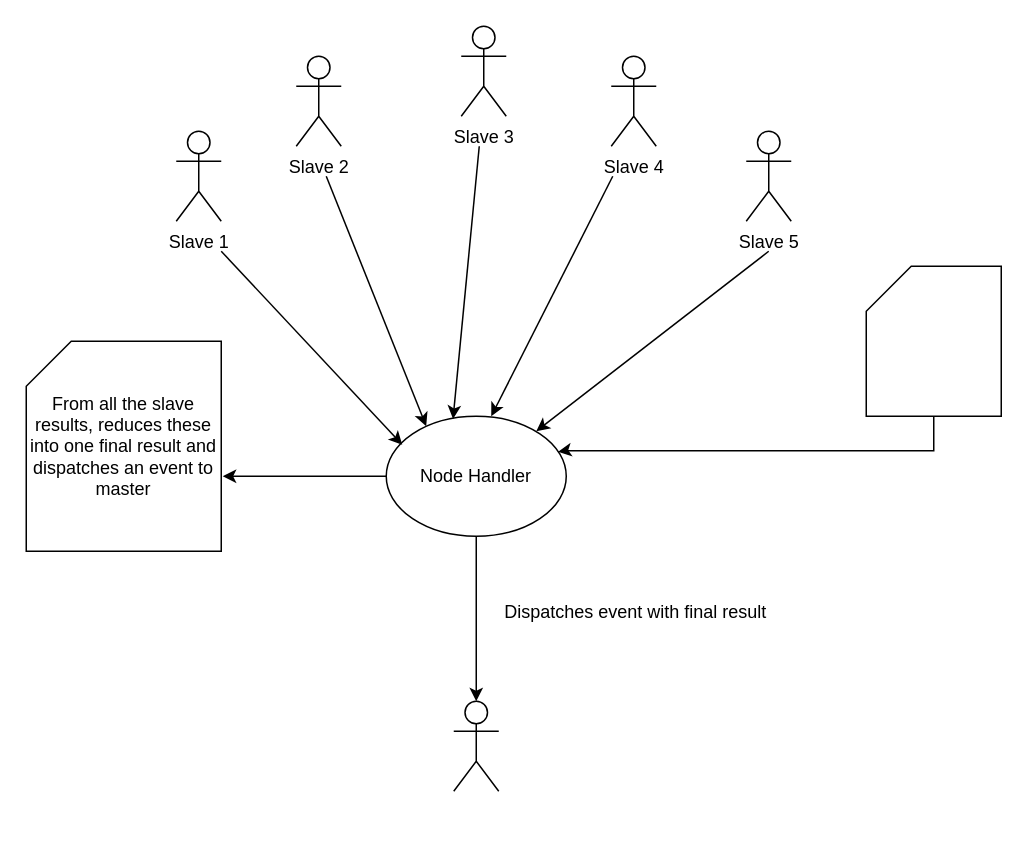
The diagram is 1028 pixels wide and 849 high, and some of its shapes have lost their labels. Each missing label, with the centre of its shape:
All communication is asynchronous: the point at 933,340
Master: the point at 475,745
